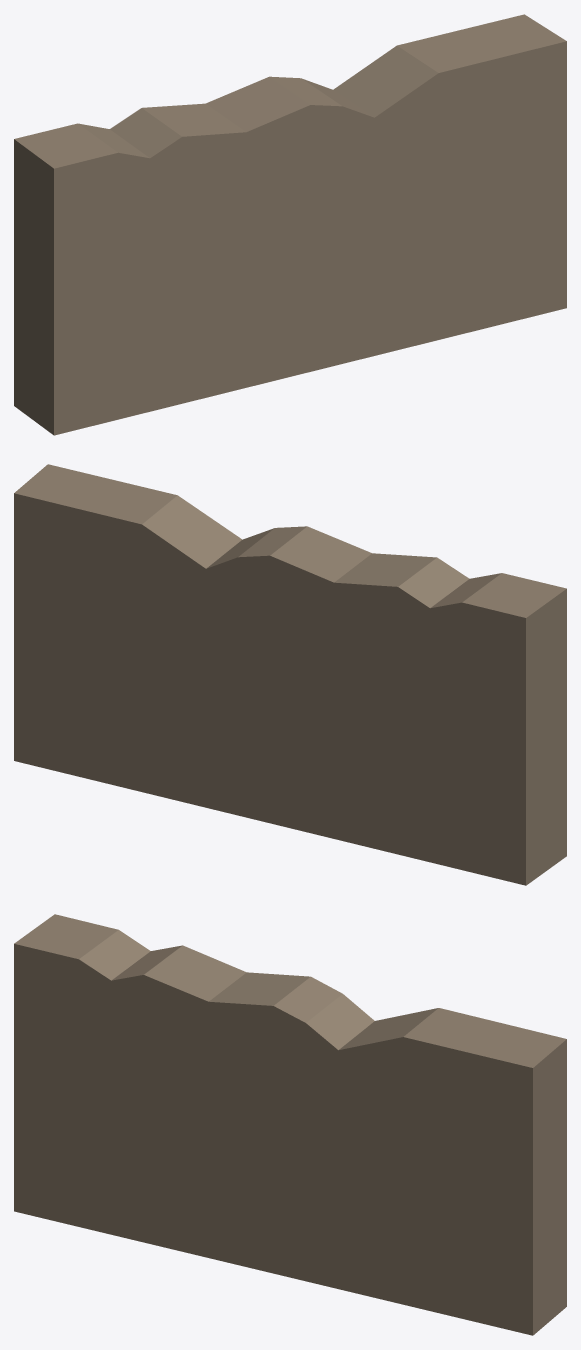
The picture shows the model from 3 angles, top to bottom: view 1: azimuth 30°, elevation 25°; view 2: azimuth 150°, elevation 25°; view 3: azimuth 330°, elevation 25°; orthographic projection.
Parts seen in each view (by area): view 1: Cube.012; view 2: Cube.012; view 3: Cube.012.
Part boxes in pixels (<box>): Cube.012: <box>14,14,566,435</box>; Cube.012: <box>14,464,566,885</box>; Cube.012: <box>14,914,566,1335</box>.
Size of the model in its own units: 1.59 by 0.7853 by 0.216.
